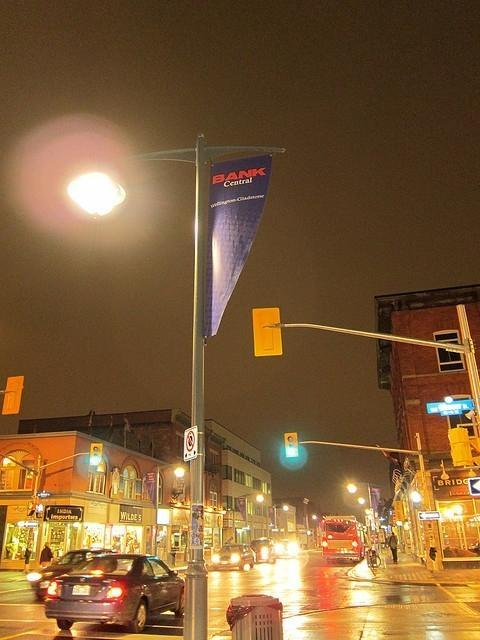bus: (321, 516, 366, 560)
car: (44, 552, 184, 634), (31, 550, 110, 602), (212, 545, 256, 571), (250, 540, 276, 561), (274, 539, 300, 559)
